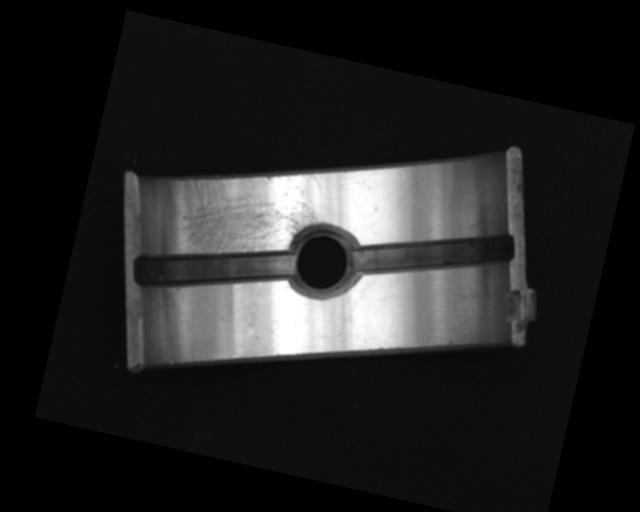gap: (348, 203, 518, 307), (129, 217, 301, 319)
hole: (279, 217, 368, 308)
scratch: (152, 139, 326, 287)
